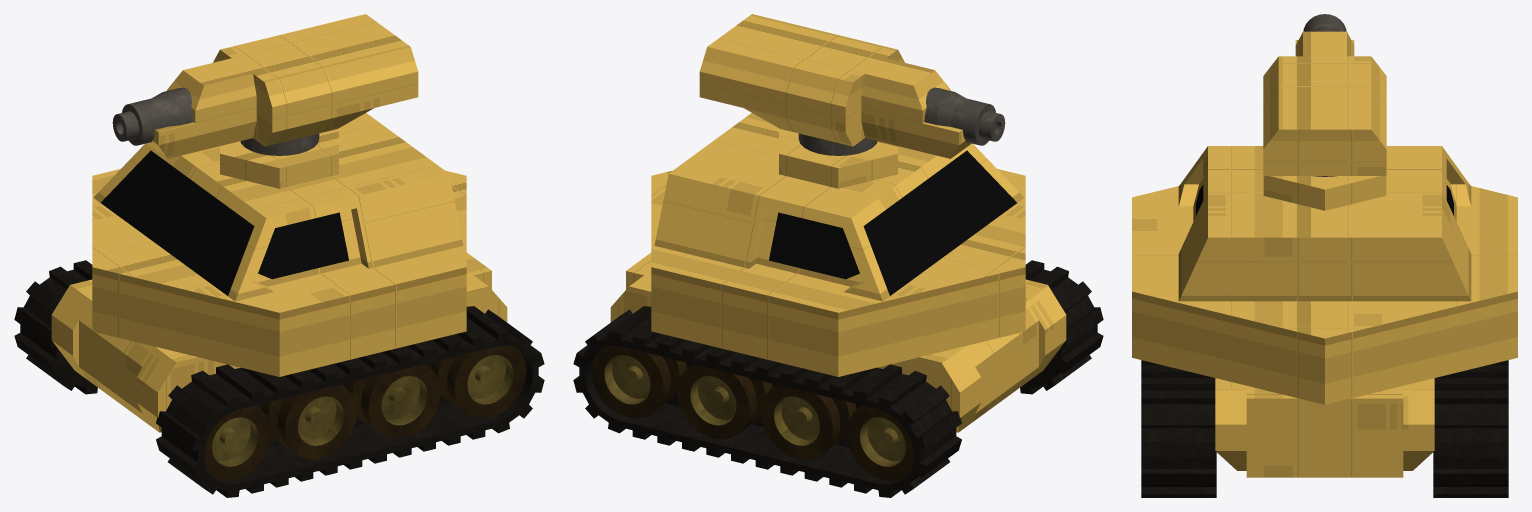
The model's file is hextankFinalTest3.glb.
3 views of the same model, side by side, from view 1: azimuth 30°, elevation 25°; view 2: azimuth 150°, elevation 25°; view 3: azimuth 270°, elevation 25° (orthographic). The views are drawn at different scales.
Parts seen in each view (by area): view 1: mergedBlocks(Clone); view 2: mergedBlocks(Clone); view 3: mergedBlocks(Clone).
Part boxes in pixels (x1=…): mergedBlocks(Clone): x1=14, y1=14, x2=544, y2=497; mergedBlocks(Clone): x1=573, y1=14, x2=1103, y2=497; mergedBlocks(Clone): x1=1132, y1=14, x2=1517, y2=497.
Bounding box in the file's own units: 1.52 × 1.33 × 1.32.
7 materials, 6 textured.
